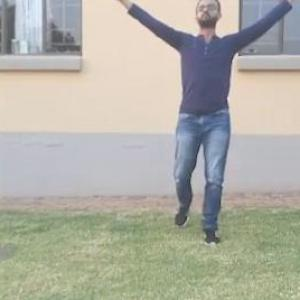takeoff: (83, 0, 299, 254)
